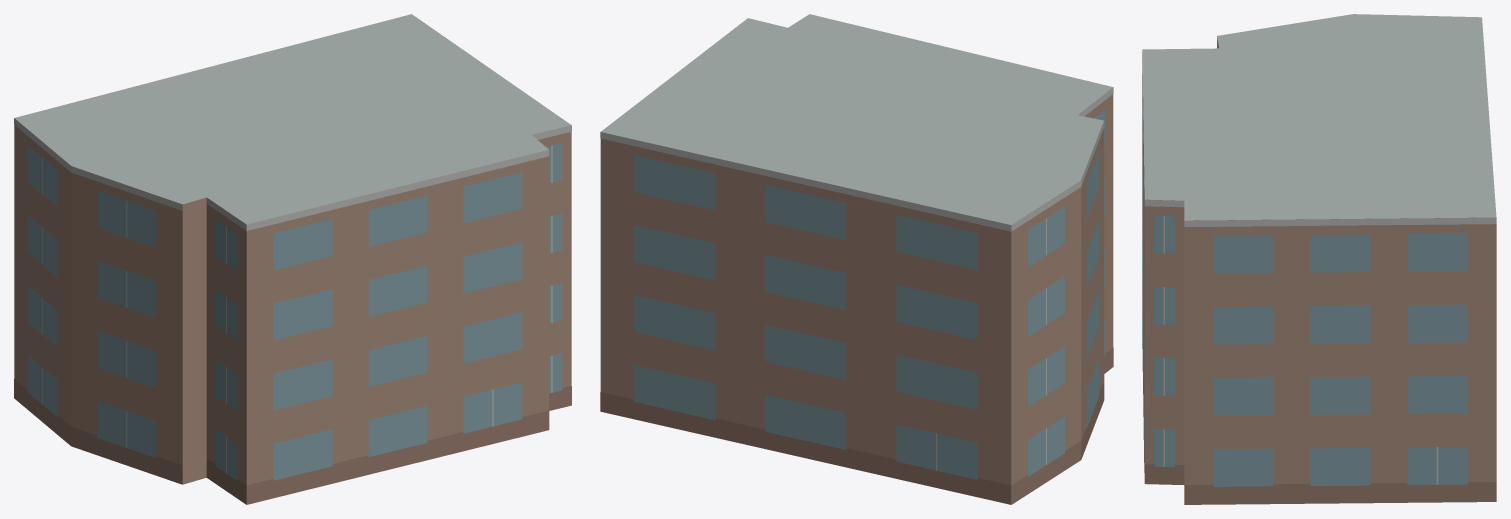
File: survey-upis-33011105.glb
3 renders of one model, left to right at view 1: azimuth 30°, elevation 25°; view 2: azimuth 150°, elevation 25°; view 3: azimuth 270°, elevation 25°, orthographic.
Visible parts, largest first — view 1: survey-upis-33011105.tmp; view 2: survey-upis-33011105.tmp; view 3: survey-upis-33011105.tmp.
Boxes of the visible parts, left/top/right/bottom form: survey-upis-33011105.tmp: left=14, top=14, right=571, bottom=504; survey-upis-33011105.tmp: left=600, top=14, right=1113, bottom=504; survey-upis-33011105.tmp: left=1142, top=14, right=1496, bottom=504.
Size of the model in its own units: 16.37 by 10.5 by 11.86.
